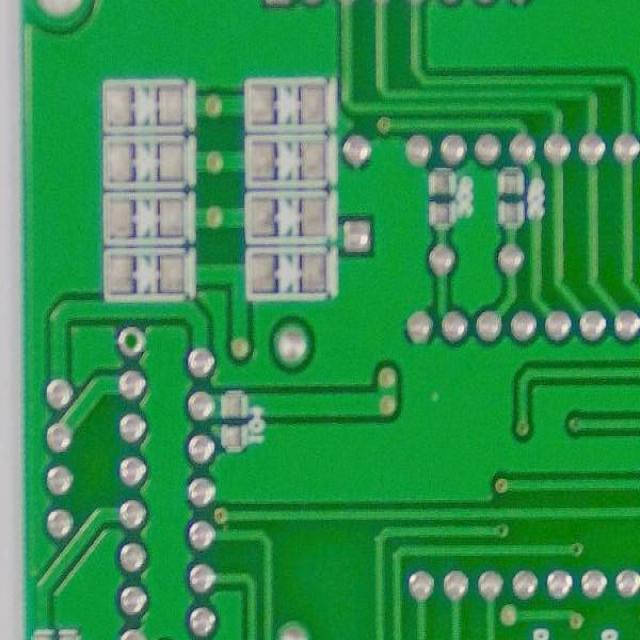missing hole: (113, 319, 149, 361)
